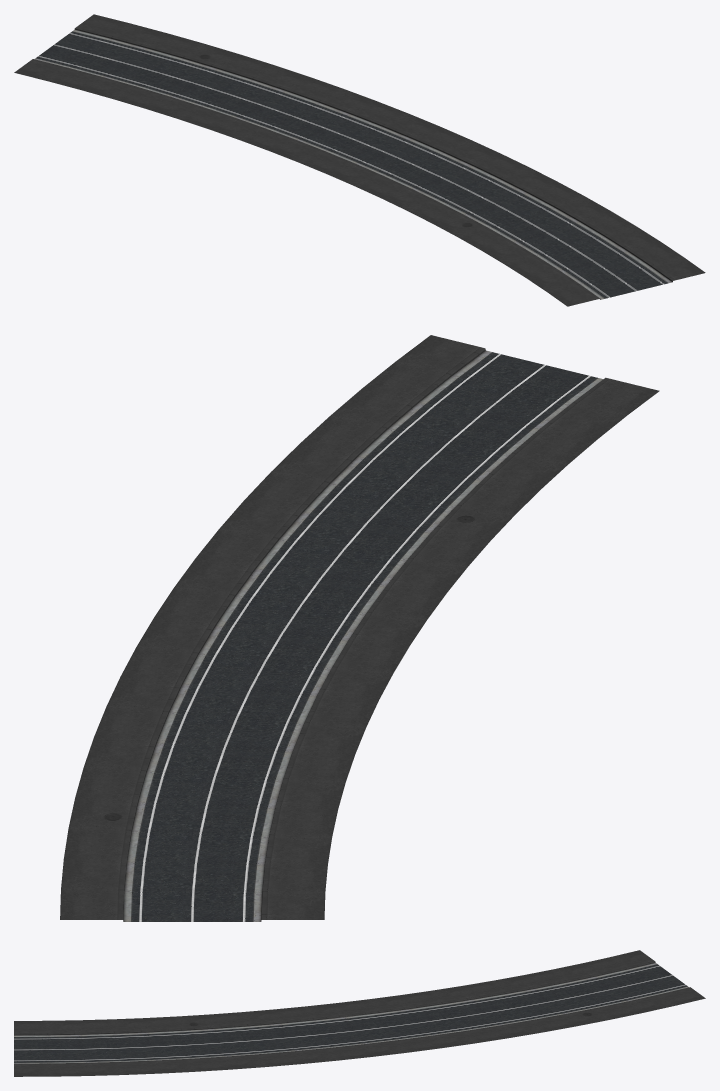
Rendered from city_road_cont_marking_30left.fbx.
3 views of the same model, one above another, from view 1: azimuth 30°, elevation 25°; view 2: azimuth 150°, elevation 25°; view 3: azimuth 270°, elevation 25° (orthographic). The views are drawn at different scales.
Parts seen in each view (by area): view 1: obj0; view 2: obj0; view 3: obj0.
Boxes of the visible parts, x1=… form: obj0: x1=14, y1=14, x2=705, y2=306; obj0: x1=60, y1=335, x2=659, y2=921; obj0: x1=14, y1=950, x2=705, y2=1076.
Bounding box in the file's own units: 66.25 × 0.254 × 153.
